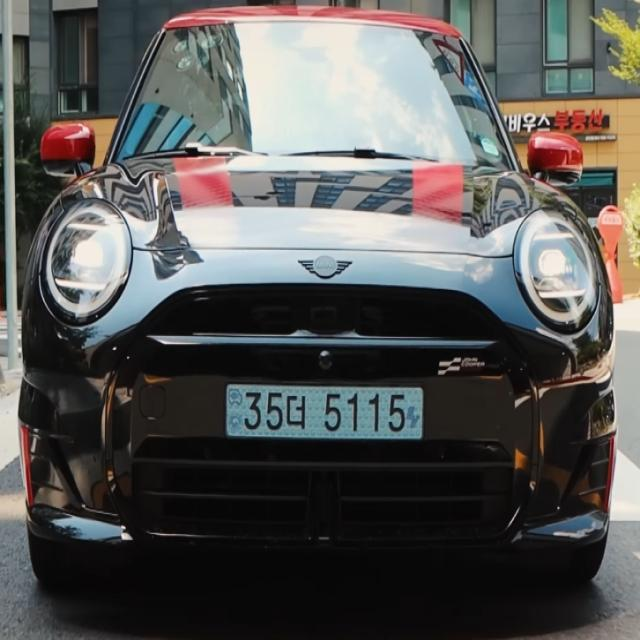car: (201, 369, 445, 466)
carev: (406, 378, 432, 445), (219, 377, 245, 440)
